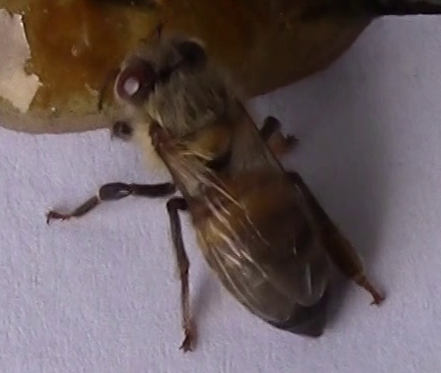Varroa destructor: (114, 60, 158, 100)
